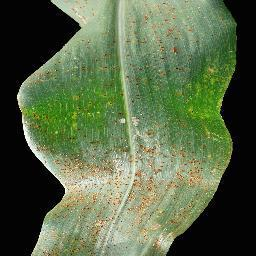Corn_Common_Rust: (8, 0, 239, 256)
